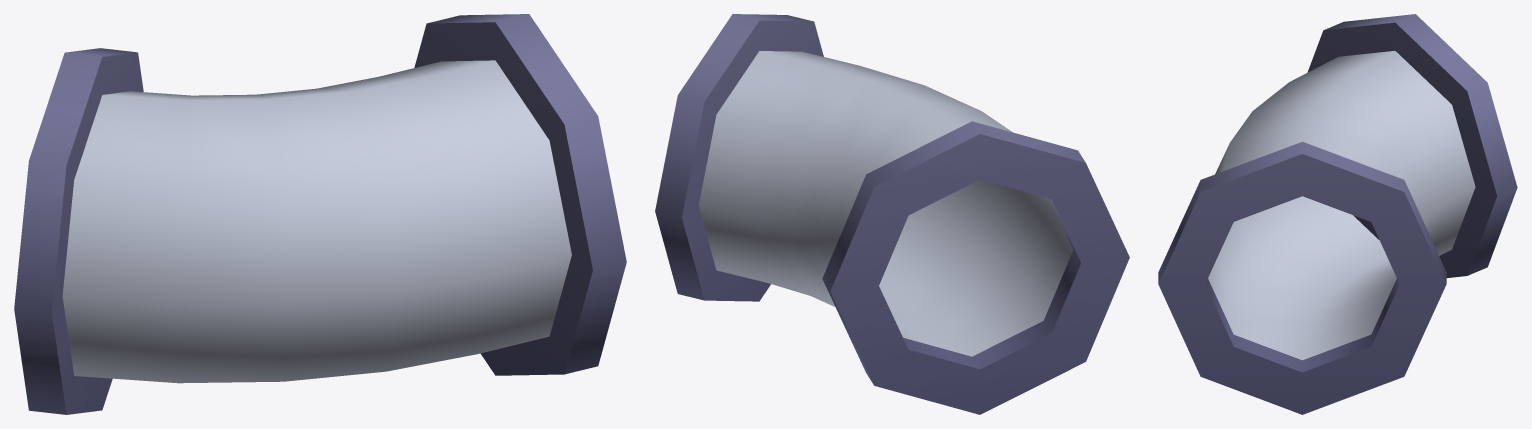
Rendered from kenney-factory-pipe-glass-large-curve.glb.
3 views of the same model, side by side, from view 1: azimuth 30°, elevation 25°; view 2: azimuth 150°, elevation 25°; view 3: azimuth 270°, elevation 25° (orthographic). The views are drawn at different scales.
Parts seen in each view (by area): view 1: pipe-glass-large-curve; view 2: pipe-glass-large-curve; view 3: pipe-glass-large-curve.
Boxes of the visible parts, x1=… form: pipe-glass-large-curve: x1=14, y1=14, x2=626, y2=414; pipe-glass-large-curve: x1=655, y1=14, x2=1129, y2=414; pipe-glass-large-curve: x1=1158, y1=14, x2=1517, y2=414.
Bounding box in the file's own units: 1.5 × 1 × 1.25.
2 materials, 1 textured.
